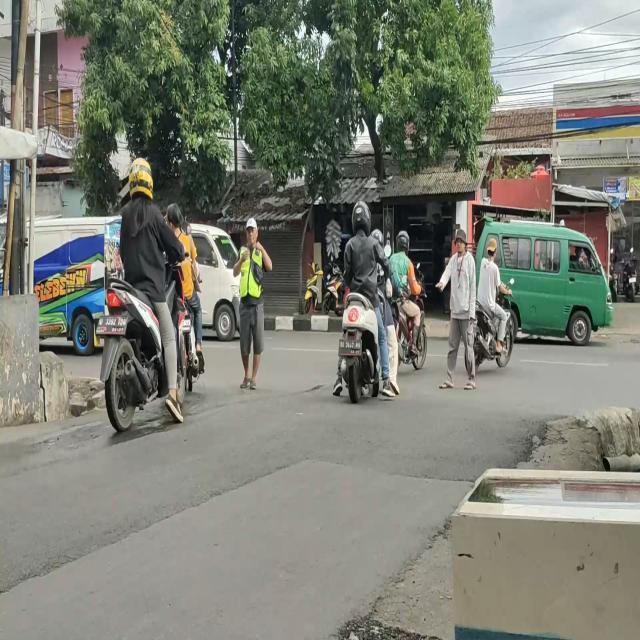helmet: (127, 157, 153, 205), (351, 202, 371, 232), (397, 231, 410, 252)
no-helmet: (165, 202, 181, 229), (488, 238, 496, 260)
